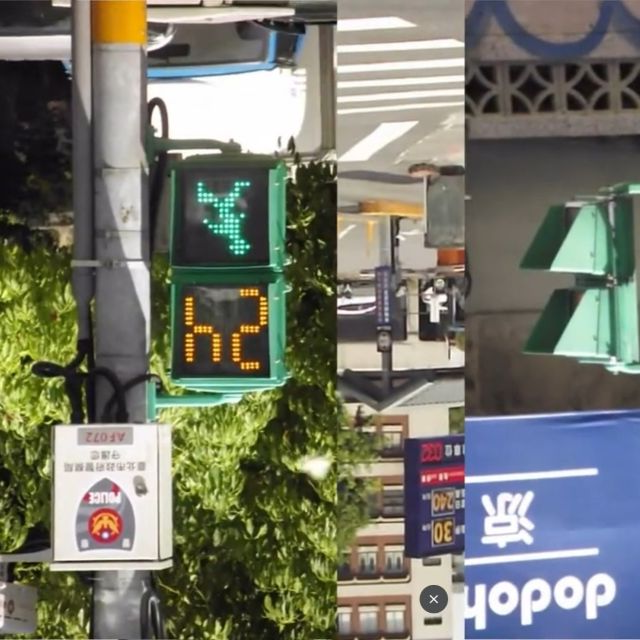green_light: (170, 160, 283, 388)
